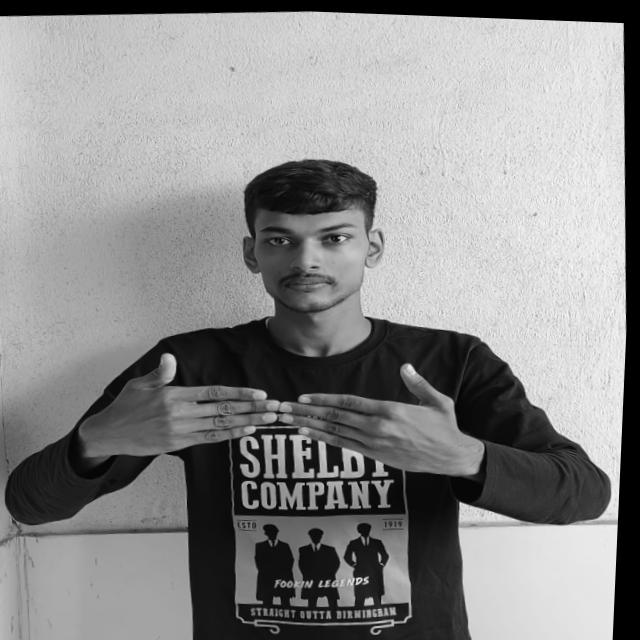Night: (105, 333, 476, 472)
